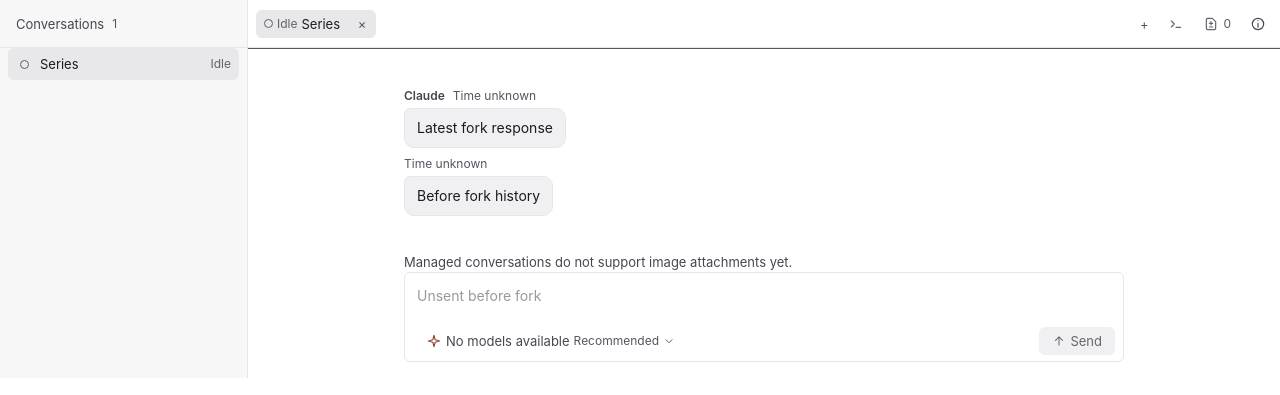
it: keeps a pre-fork tab as one series with its draft and identity (fork while open: false)
This screenshot has width=1280, height=395.
Check: the text "Latest fork response" is shown, box [417,117,553,139]
Check: the text "Before fork history" is shown, box [417,185,540,207]
Right-click the tab "Series" at (302, 24), box [256,10,348,38]
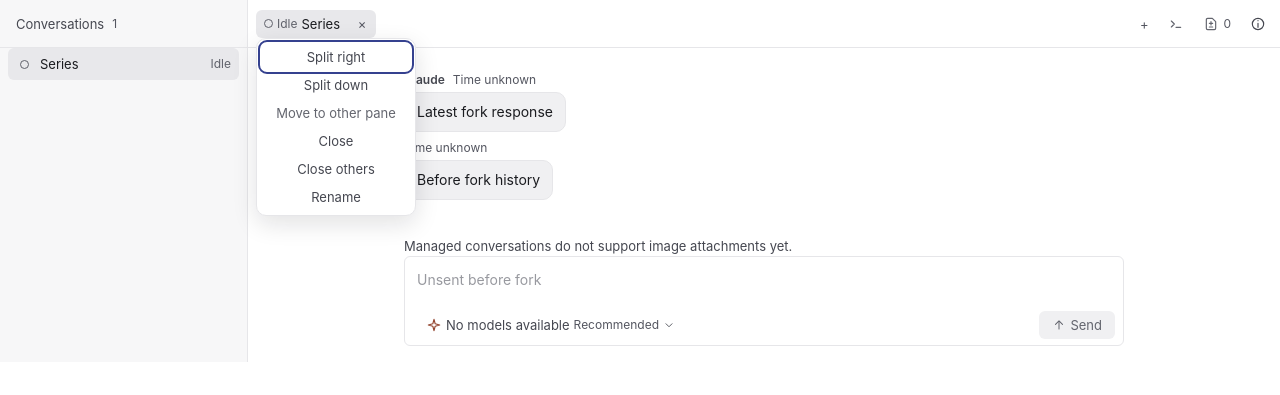
Click the menu item "Rename" at (336, 196), box [261,182,411,210]
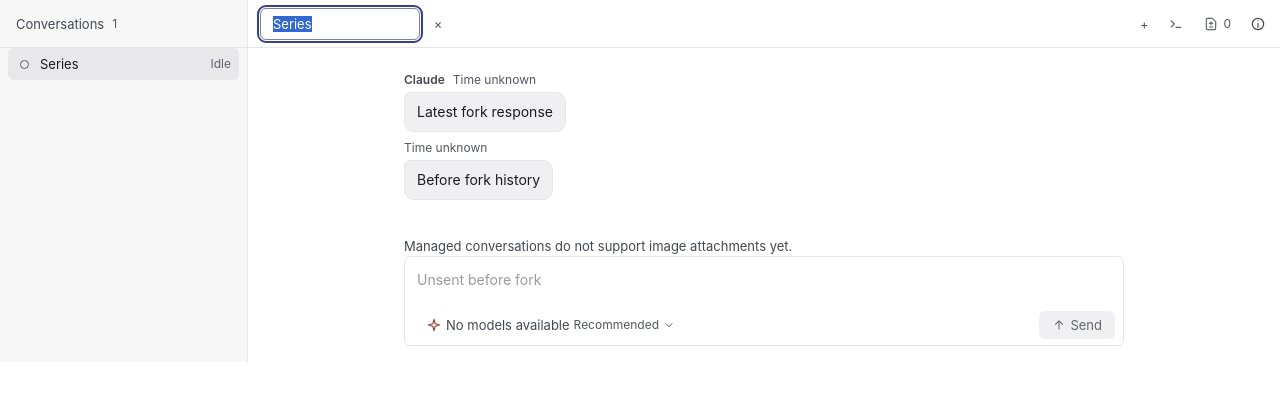
Replace the text in the field named "Tab name" with "Renamed series" at (340, 24), box [260,8,420,40]
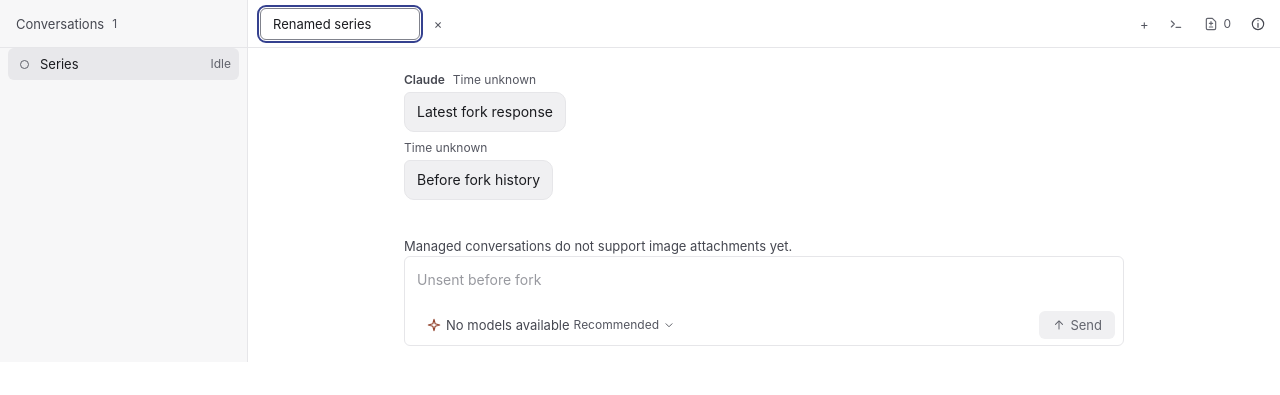
Press Enter in the field named "Tab name", box [260,8,420,40]
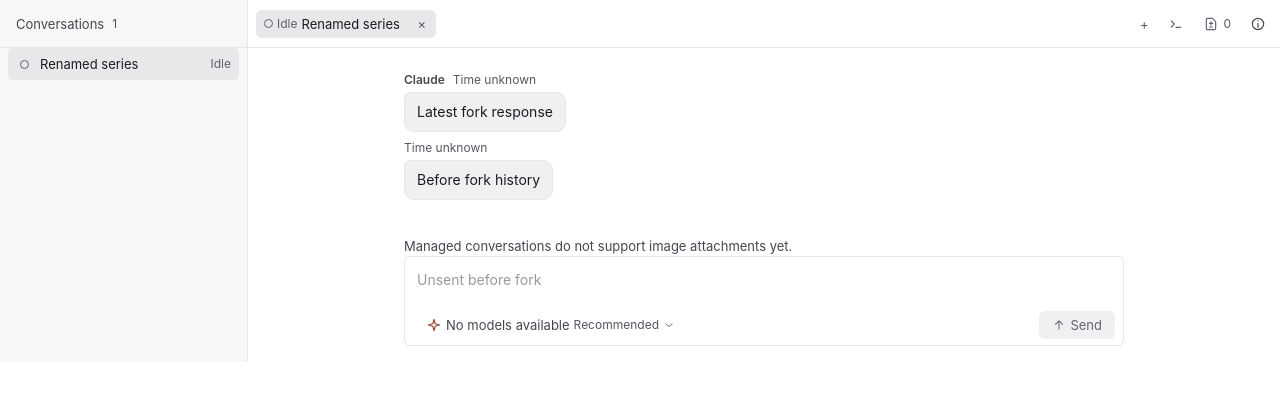
Check: the tab "Renamed series" is shown, box [256,10,408,38]
Check: the link "Renamed series Idle" is shown, box [8,48,239,80]
